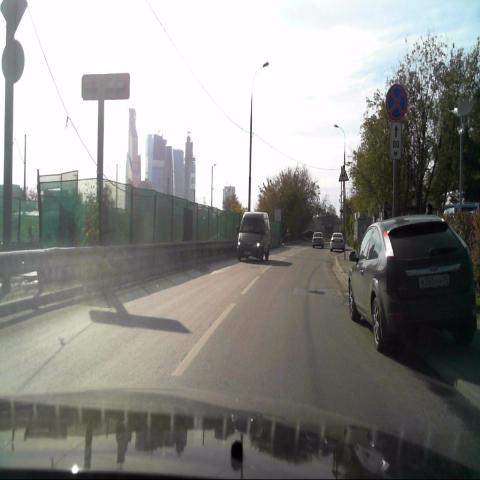8_2_2: (390, 119, 402, 160)
